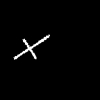single_crochet: (14, 35, 49, 58)
